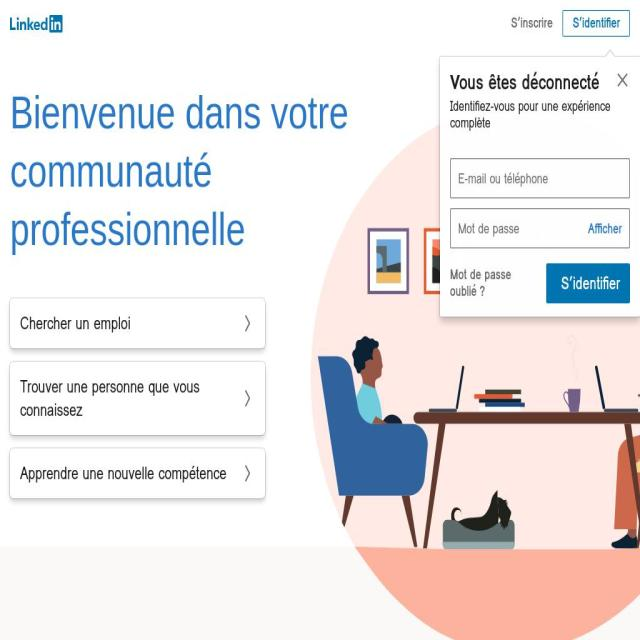button: (10, 362, 265, 435), (10, 298, 265, 348), (10, 448, 265, 498), (546, 264, 630, 304), (450, 267, 541, 300), (579, 208, 630, 250), (562, 10, 630, 37), (506, 10, 558, 37), (608, 60, 638, 100), (10, 14, 62, 33)
field: (450, 158, 630, 198), (450, 208, 580, 248)
heading: (10, 84, 351, 258), (450, 98, 630, 132), (450, 70, 630, 95)
image: (296, 105, 640, 640), (10, 14, 62, 33), (615, 70, 630, 90), (240, 314, 255, 334), (240, 388, 255, 408), (240, 464, 255, 484)
label: (450, 158, 630, 198), (450, 208, 630, 248)
text: (20, 375, 230, 422), (20, 462, 227, 485), (20, 312, 131, 335)
